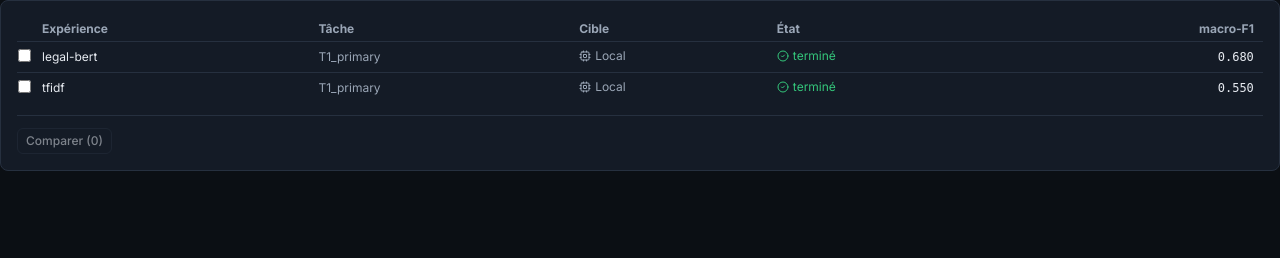
RunList — comparaison › refuse explicitement une comparaison sur des plis différents
Click the checkbox with test id "run-select-1" at (24, 55), box [18,48,31,62]
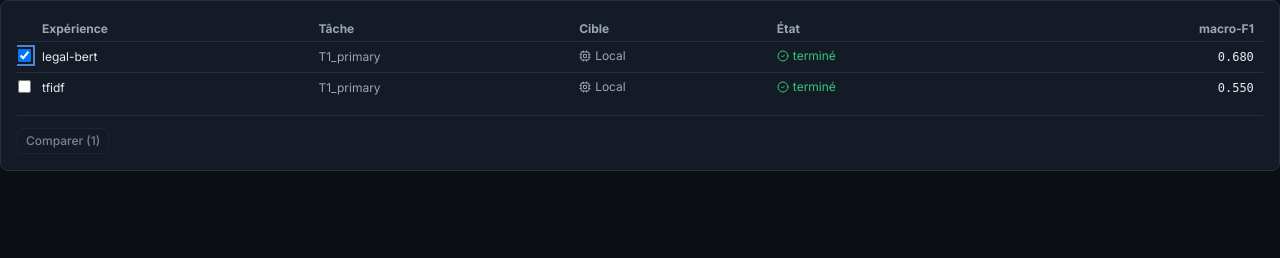
Click the checkbox with test id "run-select-2" at (24, 86), box [18,80,31,92]
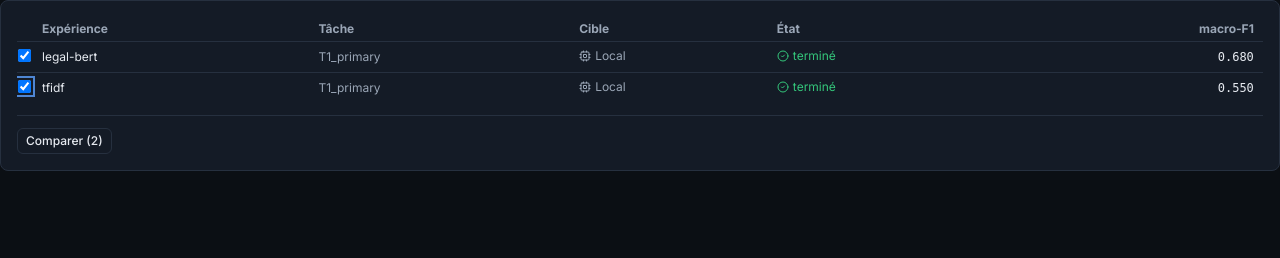
Click the button with test id "run-compare-button" at (64, 141), box [17,128,112,154]
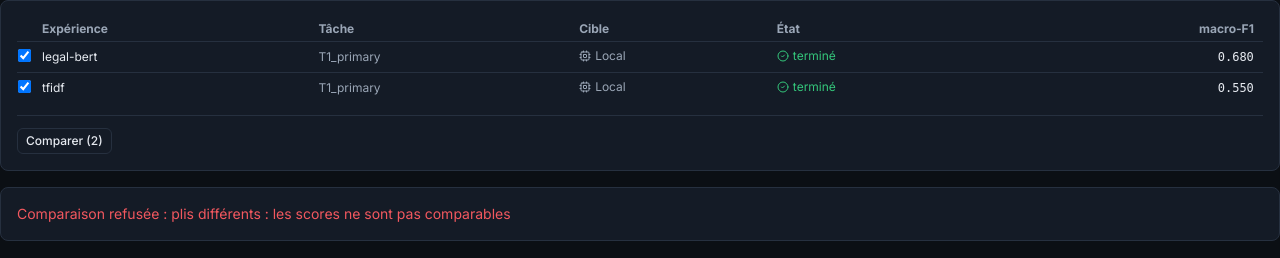
Expected: the text with test id "run-compare-refused" is shown, [0,187,1279,241]
Expected: the text with test id "run-compare-refused" shows "plis différents", [171,205,511,222]
